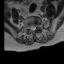CCS_severe_stenosis: (32, 25, 34, 32)
LFS_severe_stenosis: (36, 23, 37, 29)
LLS_normal: (34, 25, 36, 31)
RFS_stenosis: (28, 25, 30, 31)
RLS_normal: (30, 25, 32, 32)
